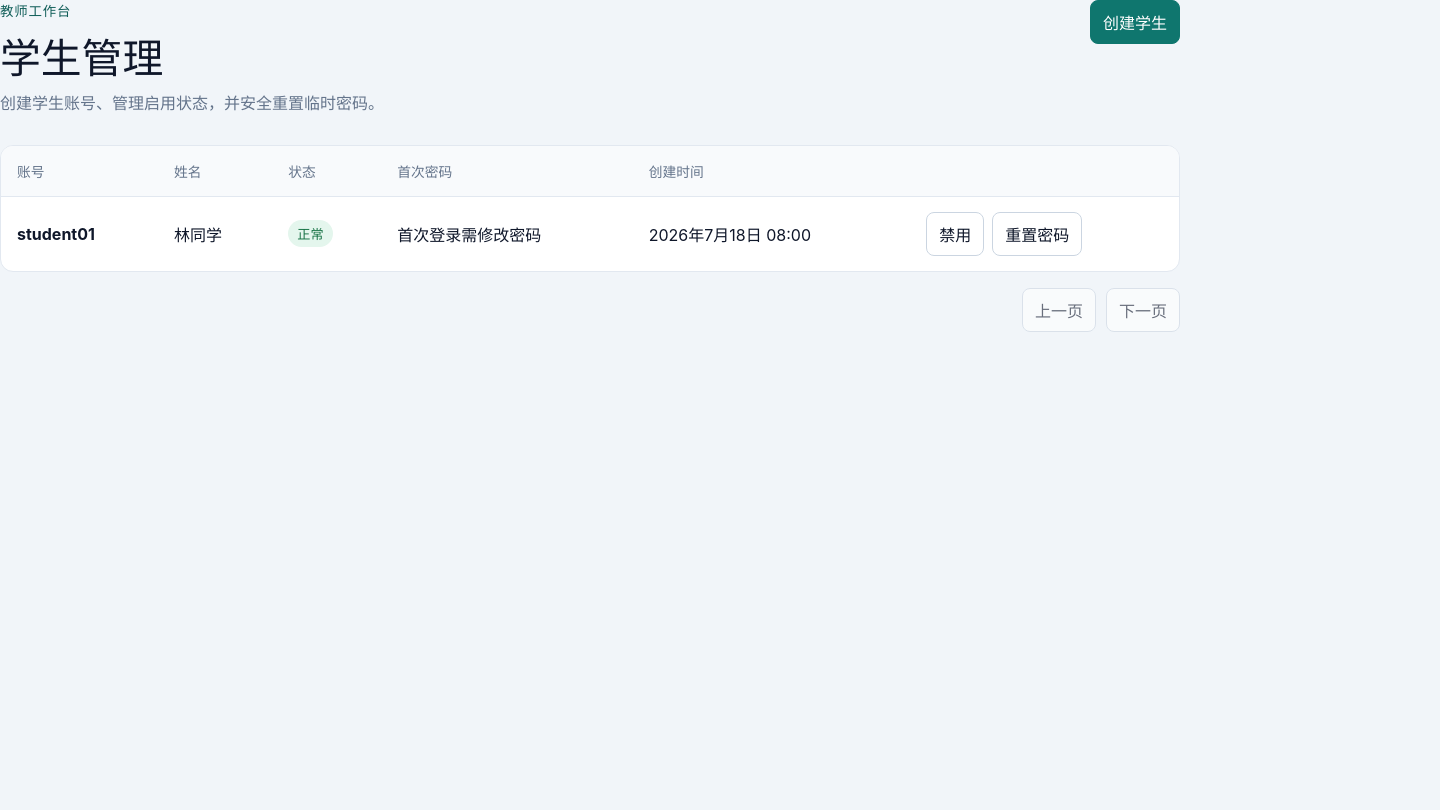
StudentListView › requires confirmation before disabling a student and updates the row immediately
Click the button with aria-label "禁用 student01". click: click(955, 234)
box: [926,212,984,256]
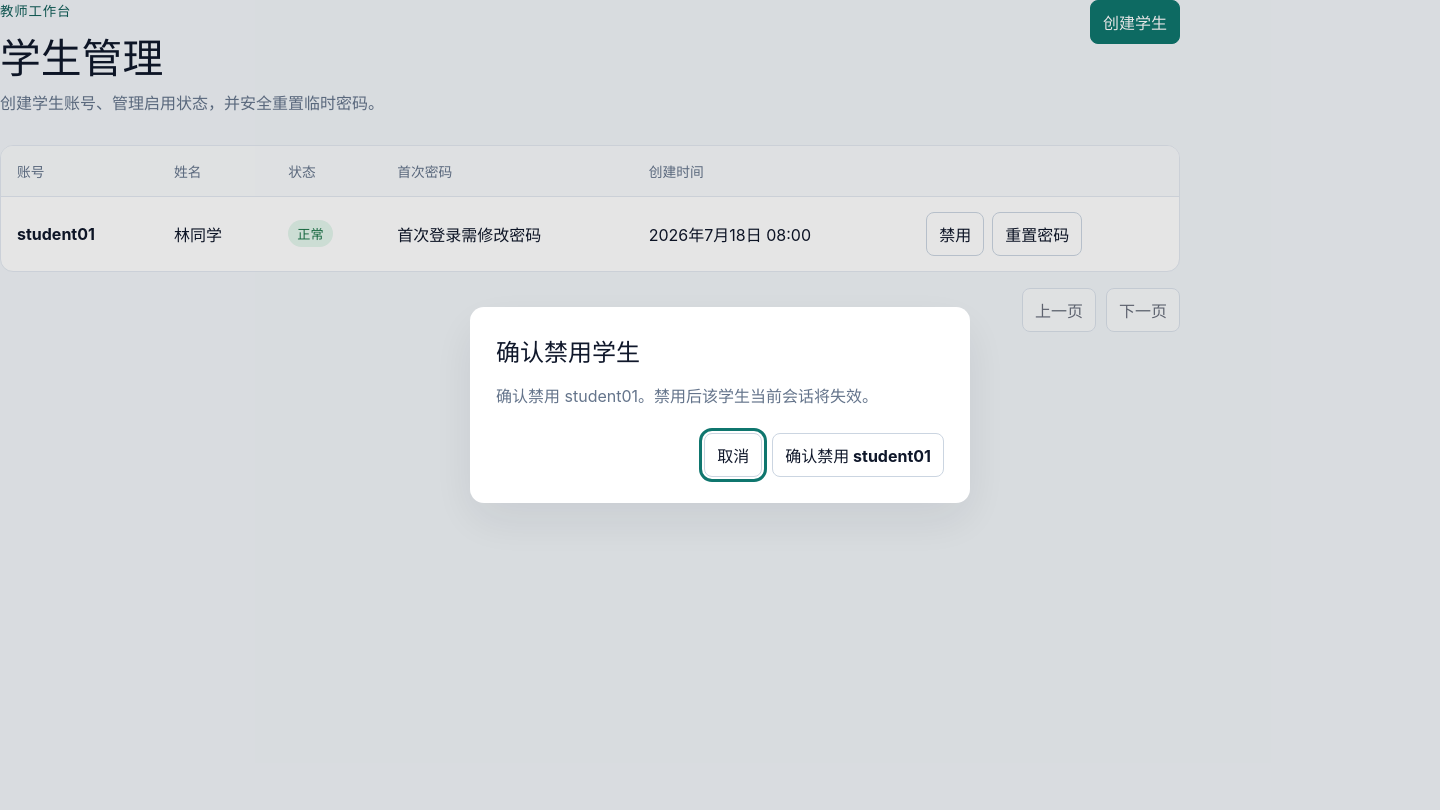
Check: the dialog shows "确认禁用 student01"
Click the button with aria-label "确认禁用 student01". click: click(858, 455)
box: [772,433,944,477]
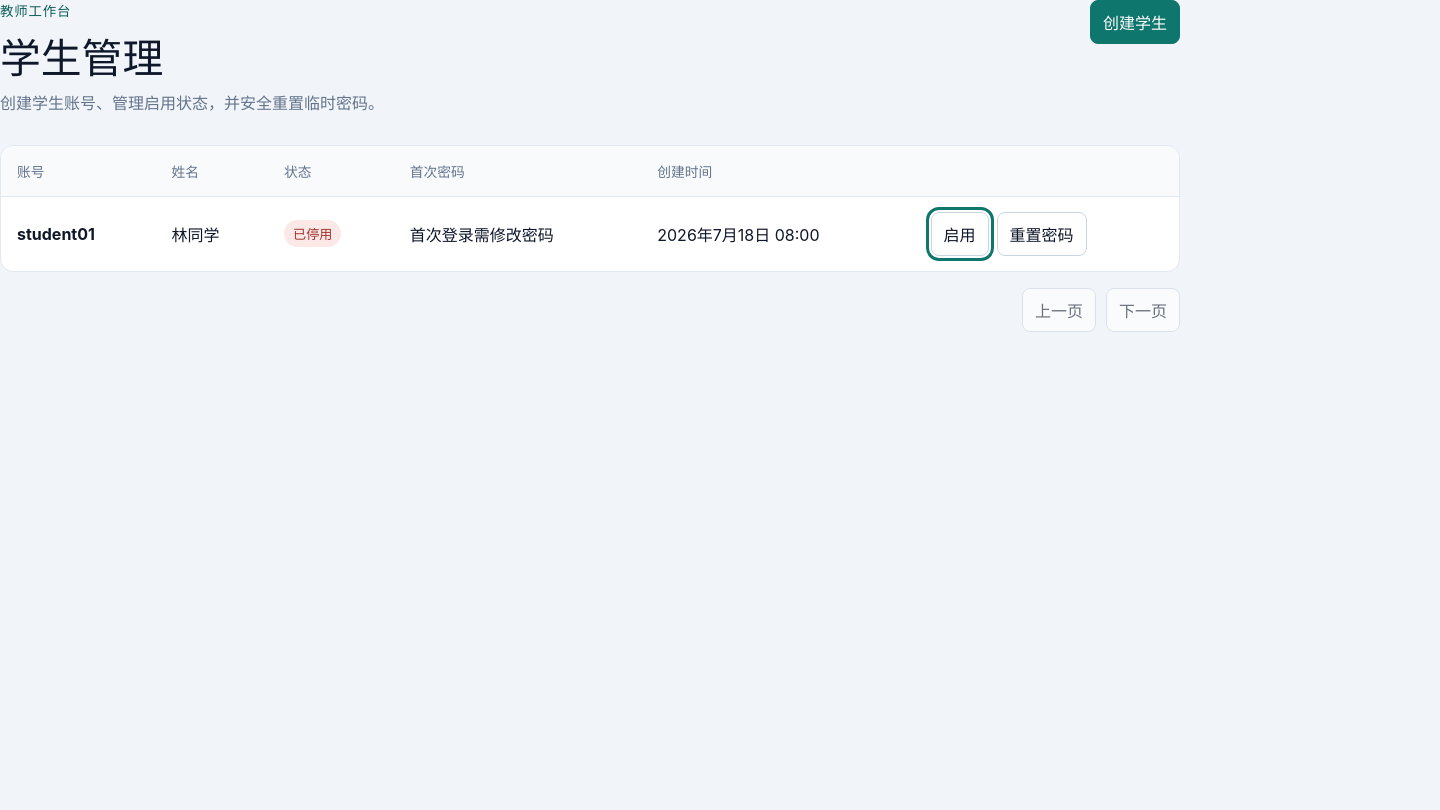
Check: the text "已停用" is shown, box [284,220,341,247]
